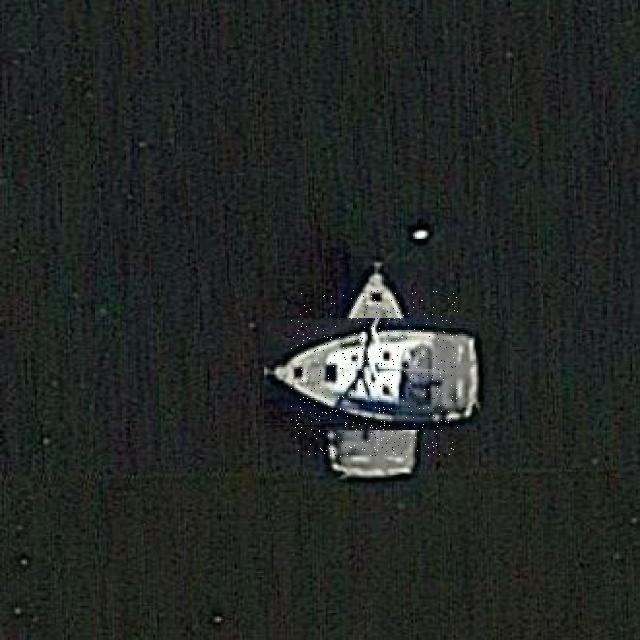boat: (291, 290, 458, 457)
